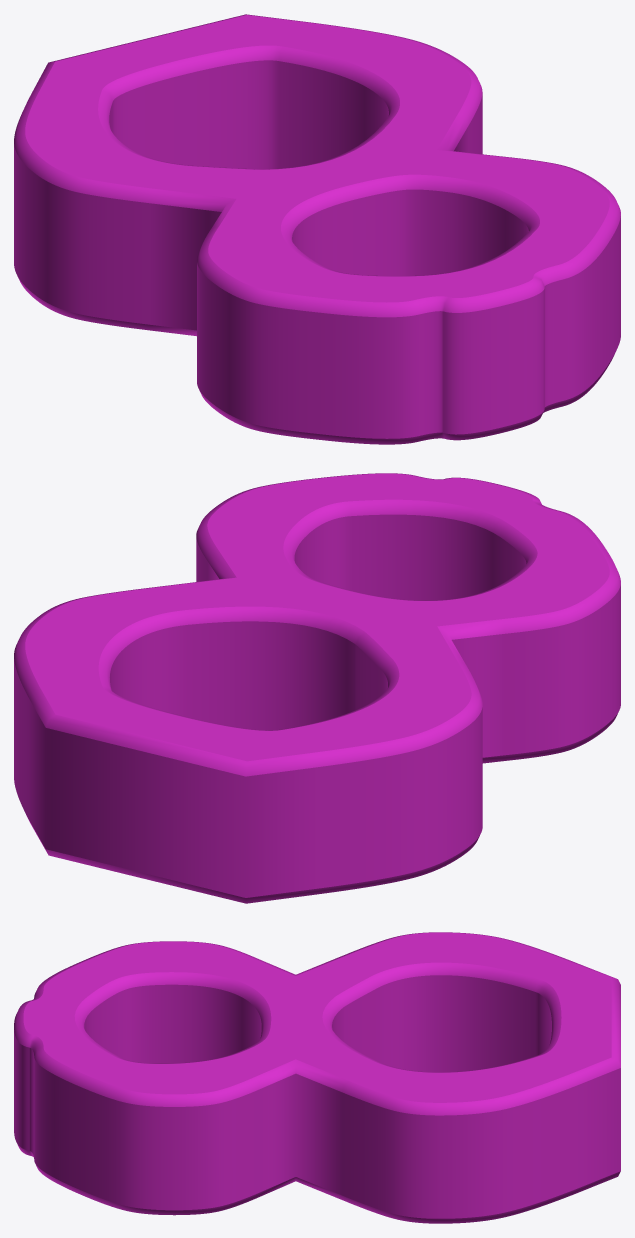
File: Blocky_Number_8.fbx
3 renders of one model, top to bottom at view 1: azimuth 30°, elevation 25°; view 2: azimuth 150°, elevation 25°; view 3: azimuth 270°, elevation 25°, orthographic. The views are drawn at different scales.
Visible parts, largest first — view 1: BlockyNumber_8; view 2: BlockyNumber_8; view 3: BlockyNumber_8.
Boxes of the visible parts, x1=… form: BlockyNumber_8: x1=14, y1=14, x2=620, y2=444; BlockyNumber_8: x1=14, y1=473, x2=620, y2=903; BlockyNumber_8: x1=14, y1=932, x2=620, y2=1223.
Size of the model in its own units: 0.4444 by 0.14 by 0.6393.
